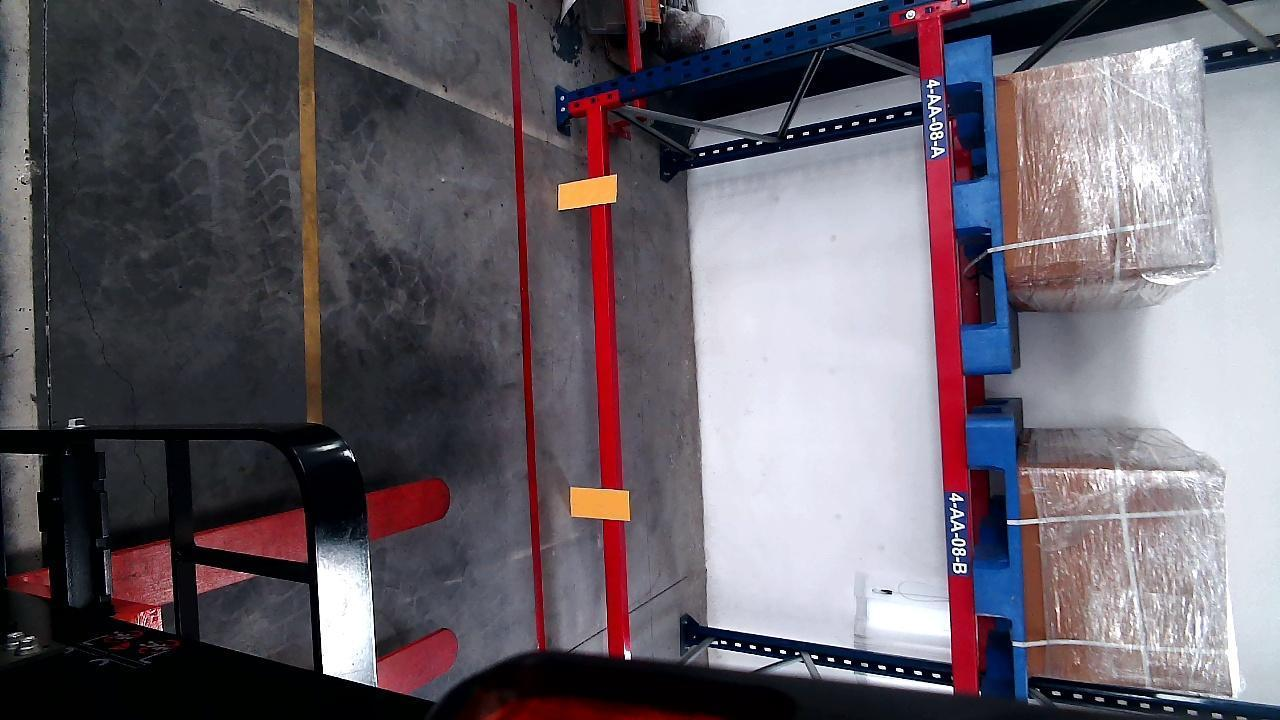h_rack: (920, 17, 976, 697), (585, 111, 626, 644)
orange_strip: (556, 174, 616, 209), (571, 487, 629, 519)
small_pallet: (945, 41, 1008, 371), (971, 421, 1026, 687)
yellow_line: (298, 0, 323, 421)
